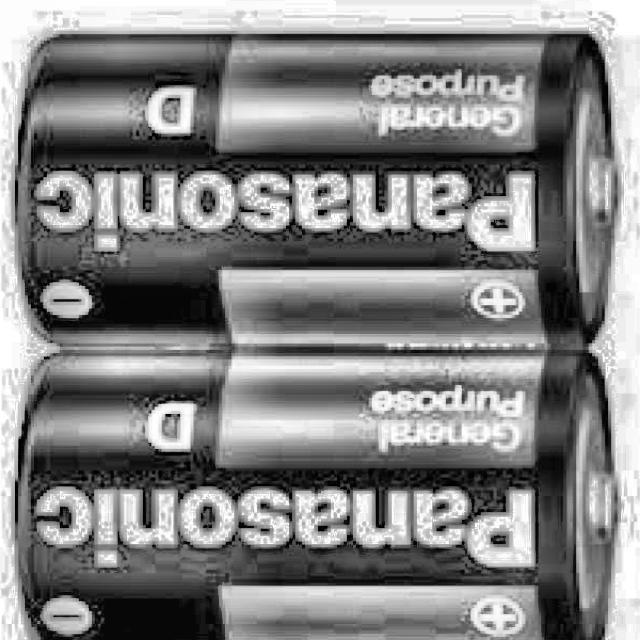battery: (18, 37, 618, 640), (18, 37, 618, 354), (17, 348, 618, 640)
